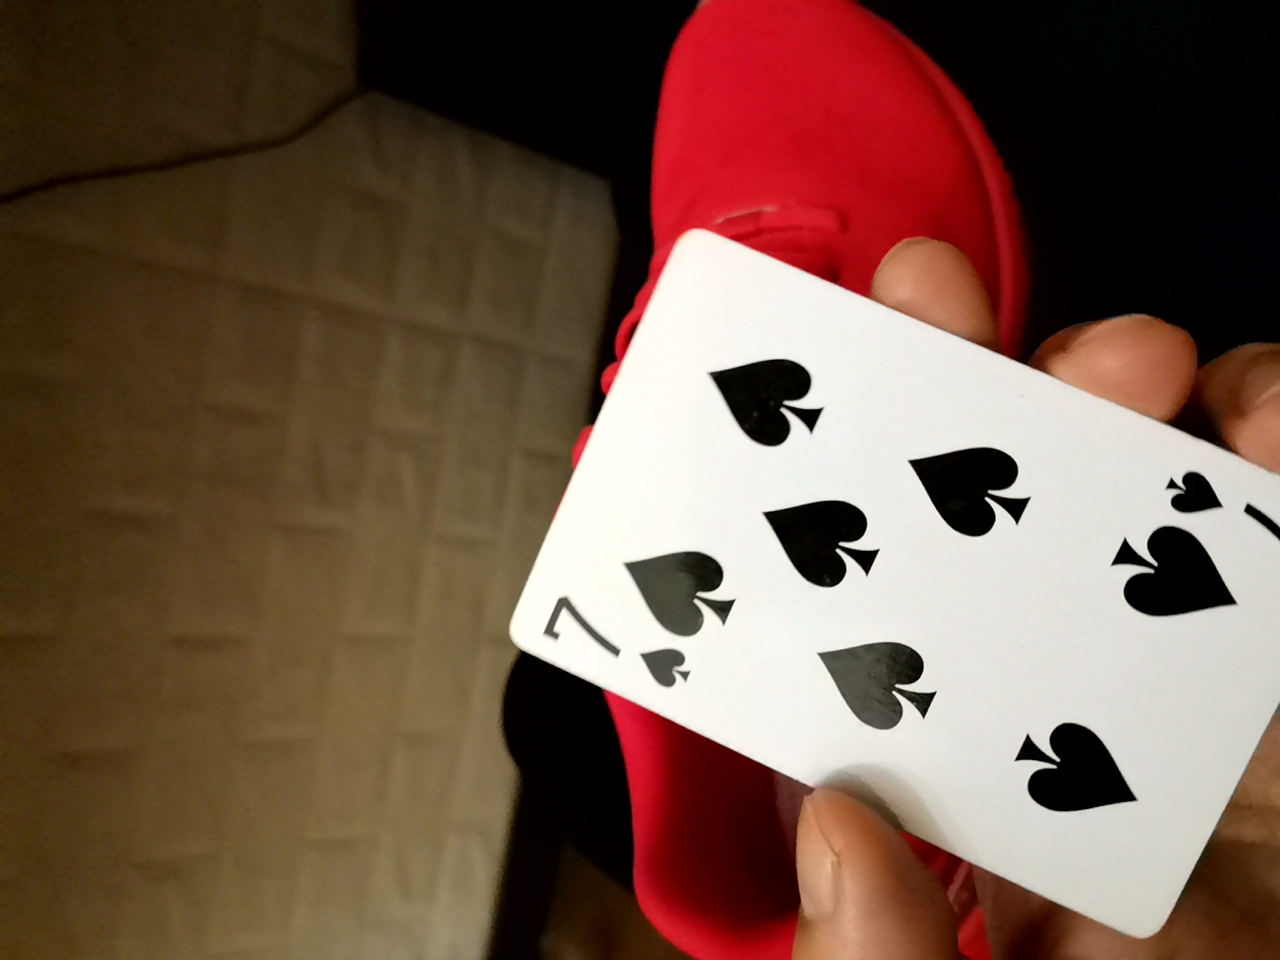ht 7: (490, 215, 1275, 947)
